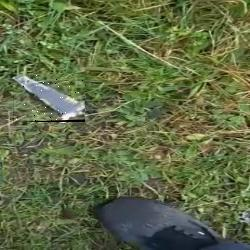restaffald: (13, 74, 85, 122)
